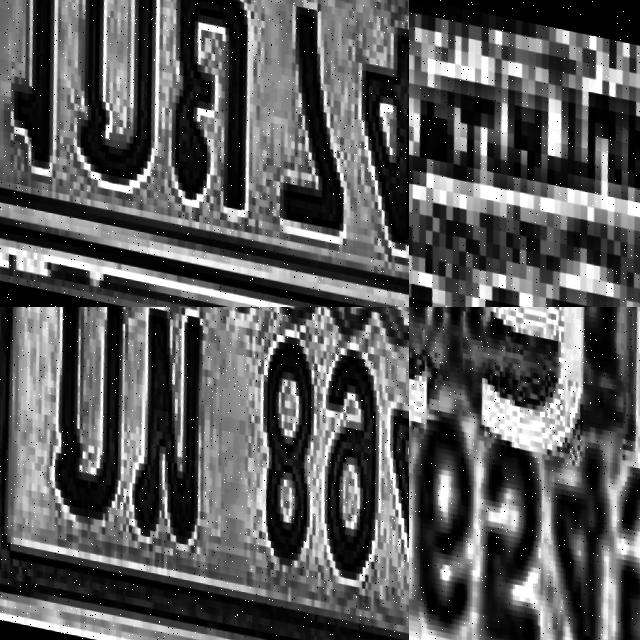license-plate: (0, 307, 409, 640), (0, 0, 409, 307), (409, 307, 640, 640), (409, 0, 640, 307)
